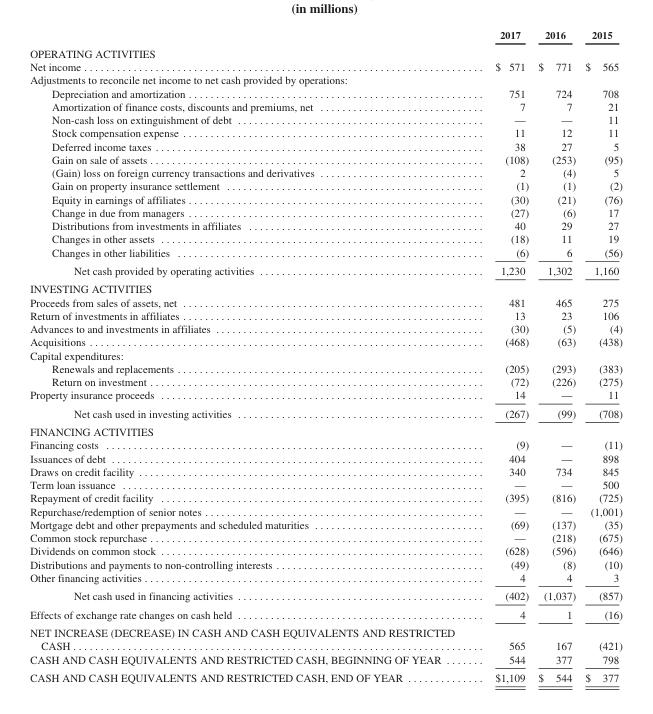table: (29, 28, 621, 683)
table column: (29, 28, 474, 683), (474, 28, 532, 683), (532, 28, 579, 683), (579, 28, 621, 683)
table column header: (29, 28, 621, 43)
table projected row header: (29, 43, 621, 59), (29, 279, 621, 295), (29, 422, 621, 437), (29, 72, 621, 86), (29, 348, 621, 361)
table row: (29, 623, 621, 652), (29, 260, 621, 279), (29, 403, 621, 422), (29, 604, 621, 623), (29, 586, 621, 604), (29, 43, 621, 59), (29, 279, 621, 295), (29, 387, 621, 403), (29, 570, 621, 586), (29, 652, 621, 668), (29, 28, 621, 43), (29, 245, 621, 260), (29, 422, 621, 437), (29, 668, 621, 683), (29, 72, 621, 86), (29, 125, 621, 139), (29, 178, 621, 192), (29, 231, 621, 245), (29, 334, 621, 348), (29, 437, 621, 451), (29, 490, 621, 504), (29, 543, 621, 557), (29, 59, 621, 72), (29, 86, 621, 99), (29, 99, 621, 112), (29, 112, 621, 125), (29, 139, 621, 152), (29, 152, 621, 165), (29, 165, 621, 178), (29, 192, 621, 205), (29, 205, 621, 218), (29, 218, 621, 231), (29, 295, 621, 308), (29, 308, 621, 321), (29, 321, 621, 334), (29, 348, 621, 361), (29, 361, 621, 374), (29, 374, 621, 387), (29, 451, 621, 464), (29, 464, 621, 477), (29, 477, 621, 490), (29, 504, 621, 517), (29, 517, 621, 530), (29, 530, 621, 543), (29, 557, 621, 570)
